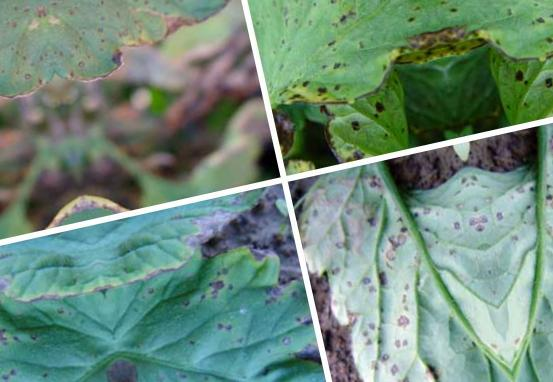Tomato leaf bacterial spot: (298, 161, 523, 382), (102, 243, 339, 382), (227, 0, 452, 138), (30, 0, 254, 109)
